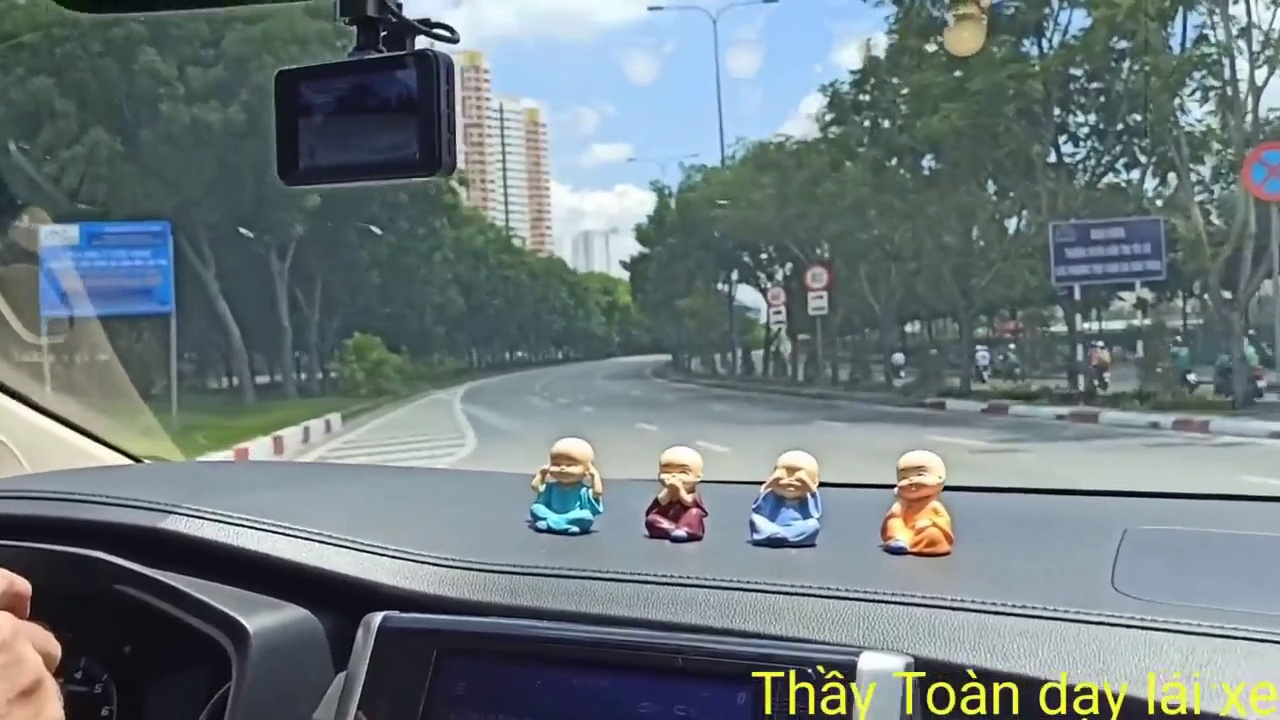Cấm dừng - Cấm đỗ: (1235, 138, 1276, 202)
Giới hạn tốc độ: 60: (760, 280, 793, 306)
Giới hạn tốc độ: 80: (802, 258, 833, 288)
